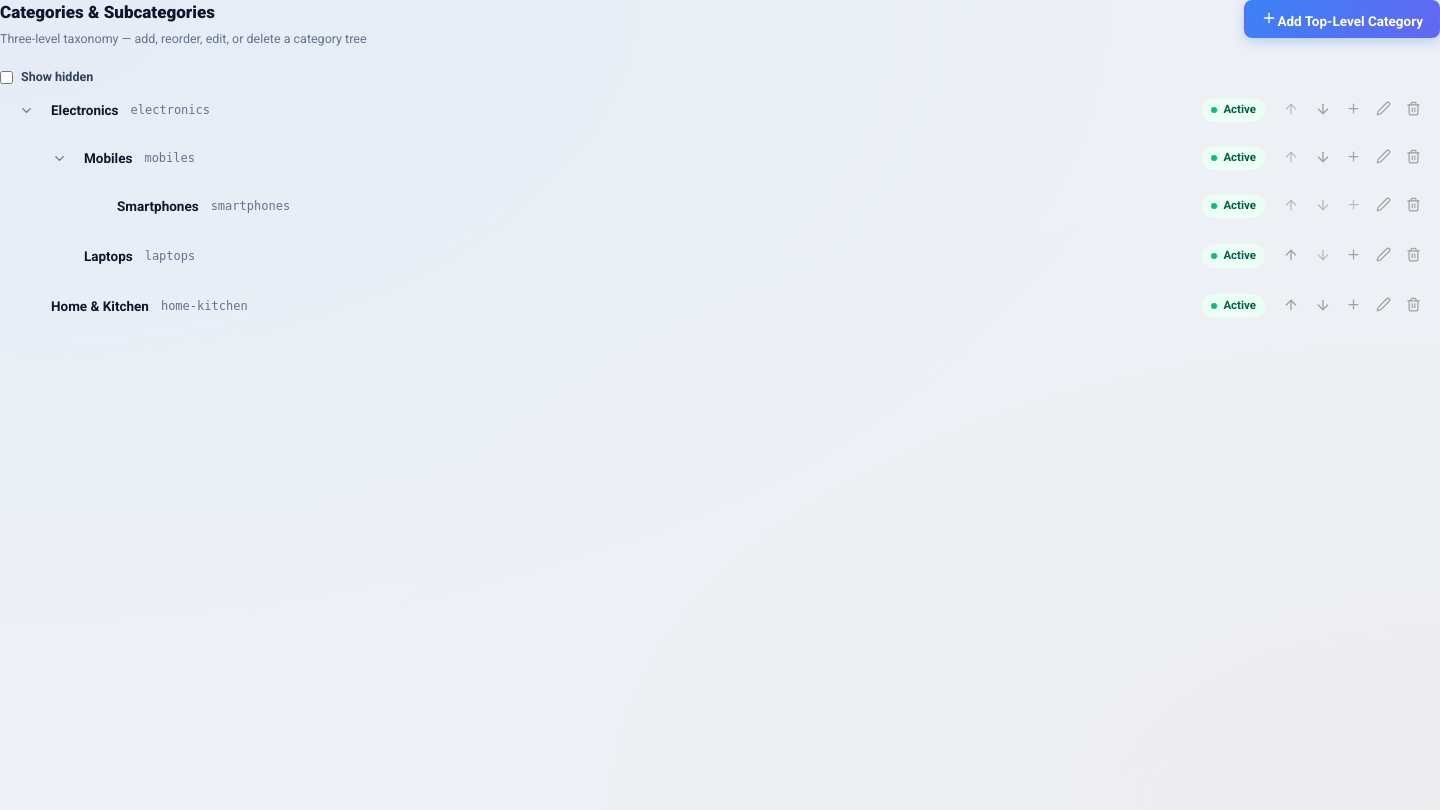
Test: CategoriesTreeEditor › sends an emptied slug as typed so the server can reject it
Expected: the text "Electronics" is shown, [51,100,118,120]
Click the button named "Edit Electronics" at (1383, 110), box [1369,96,1397,124]
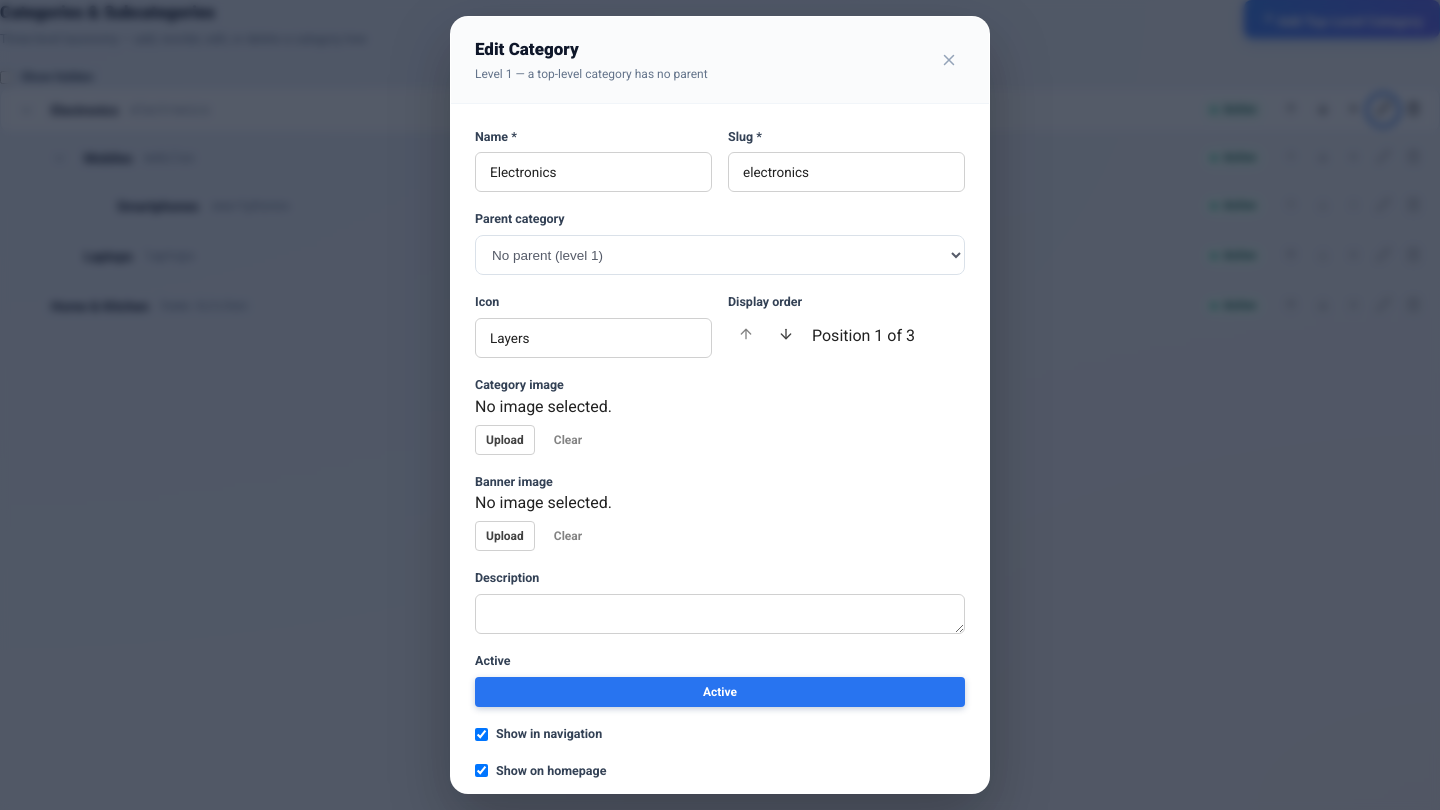
Clear the field labelled "Slug *" at (846, 172), box [728,152,965,192]
(page scrolled)
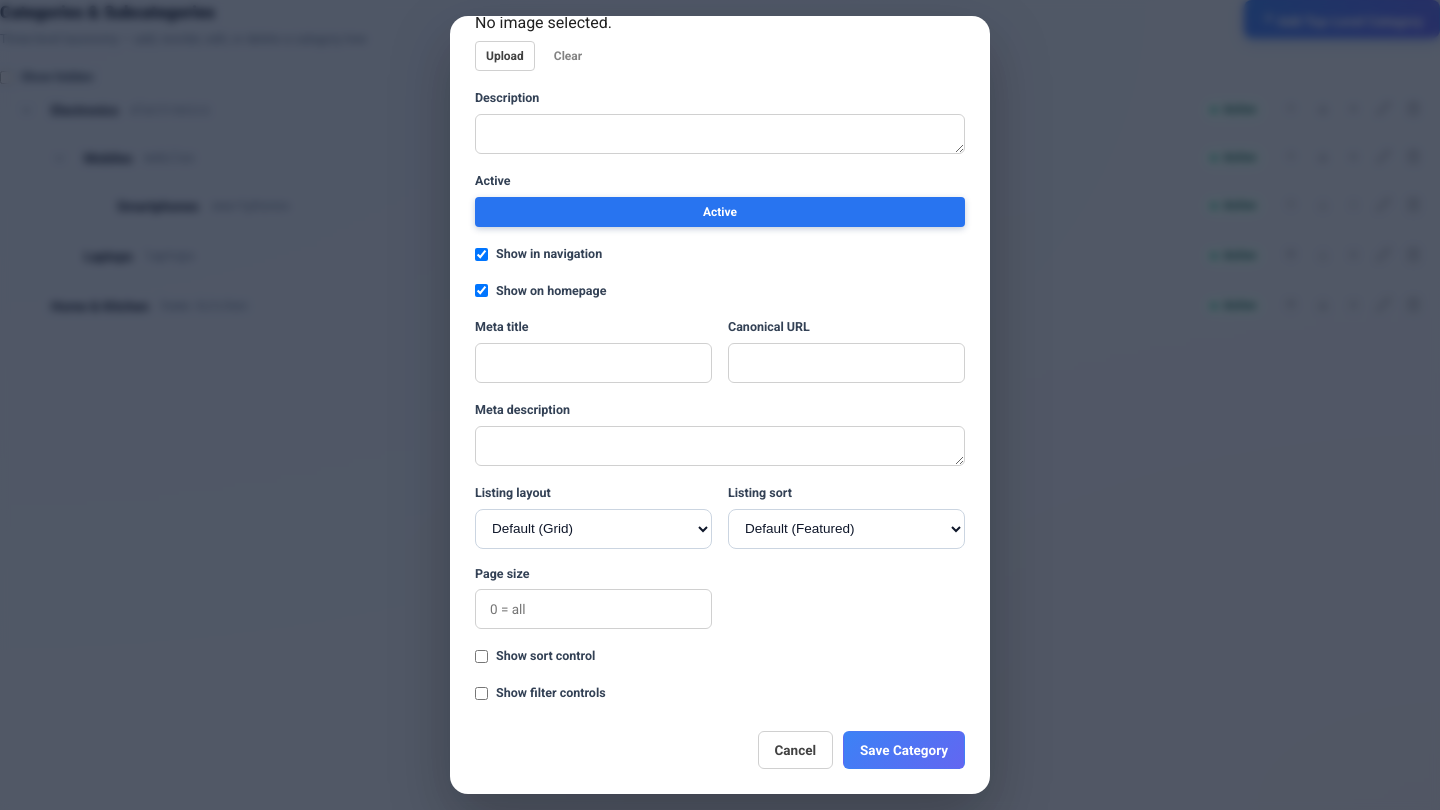
Click the button "Save Category" at (904, 750), box [843,731,965,769]
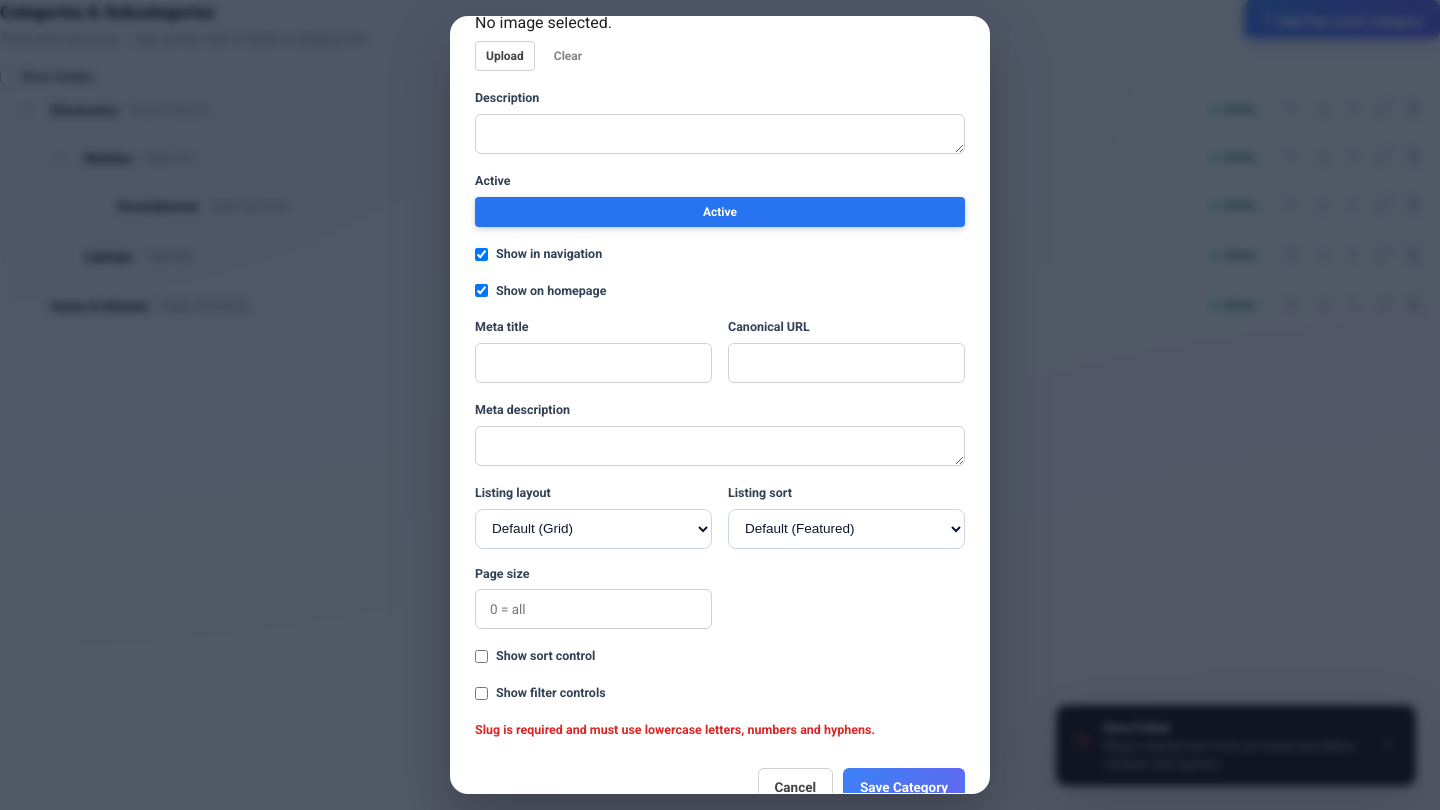
Expected: the message shows "Slug is required", [475,722,875,737]
